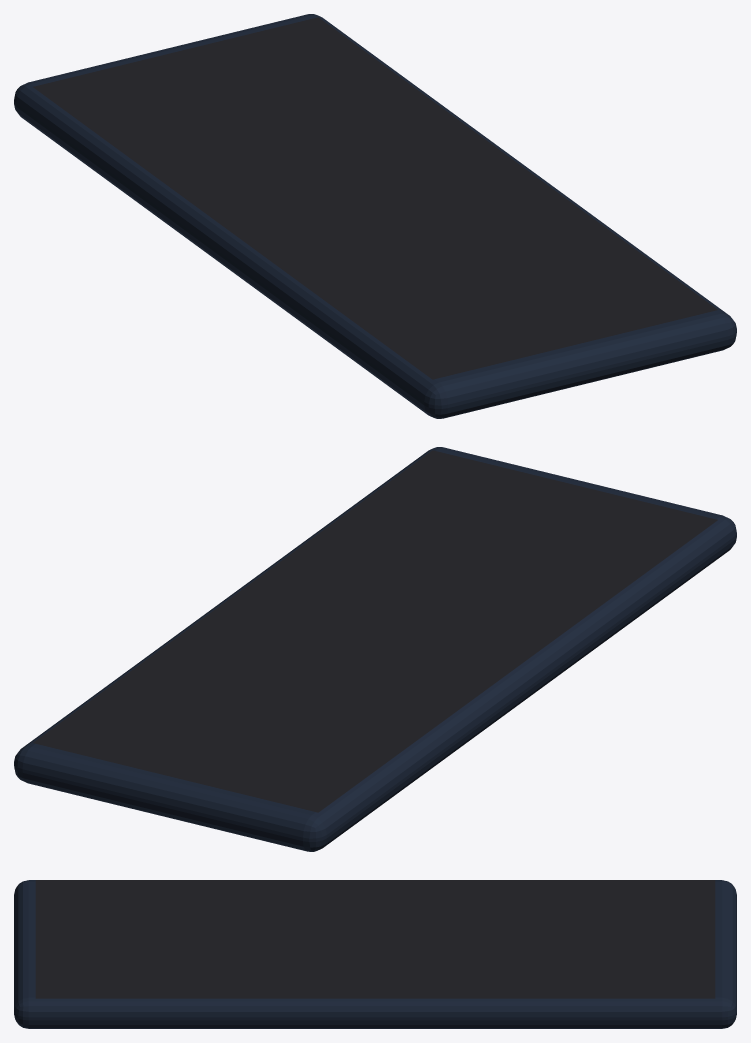
The model's file is Phone_512.glb.
The picture shows the model from 3 angles, top to bottom: view 1: azimuth 30°, elevation 25°; view 2: azimuth 150°, elevation 25°; view 3: azimuth 270°, elevation 25°; orthographic projection. The views are drawn at different scales.
Parts seen in each view (by area): view 1: Phone_Screen, Phone_Body; view 2: Phone_Screen, Phone_Body; view 3: Phone_Screen, Phone_Body.
Boxes of the visible parts, x1,y1,x2,y2 form: Phone_Screen: (33,17,717,379); Phone_Body: (14,14,736,418); Phone_Screen: (33,450,717,812); Phone_Body: (14,447,736,851); Phone_Screen: (35,880,715,998); Phone_Body: (14,880,736,1028).
Bounding box in the file's own units: 0.0713 × 0.0078 × 0.1692.
